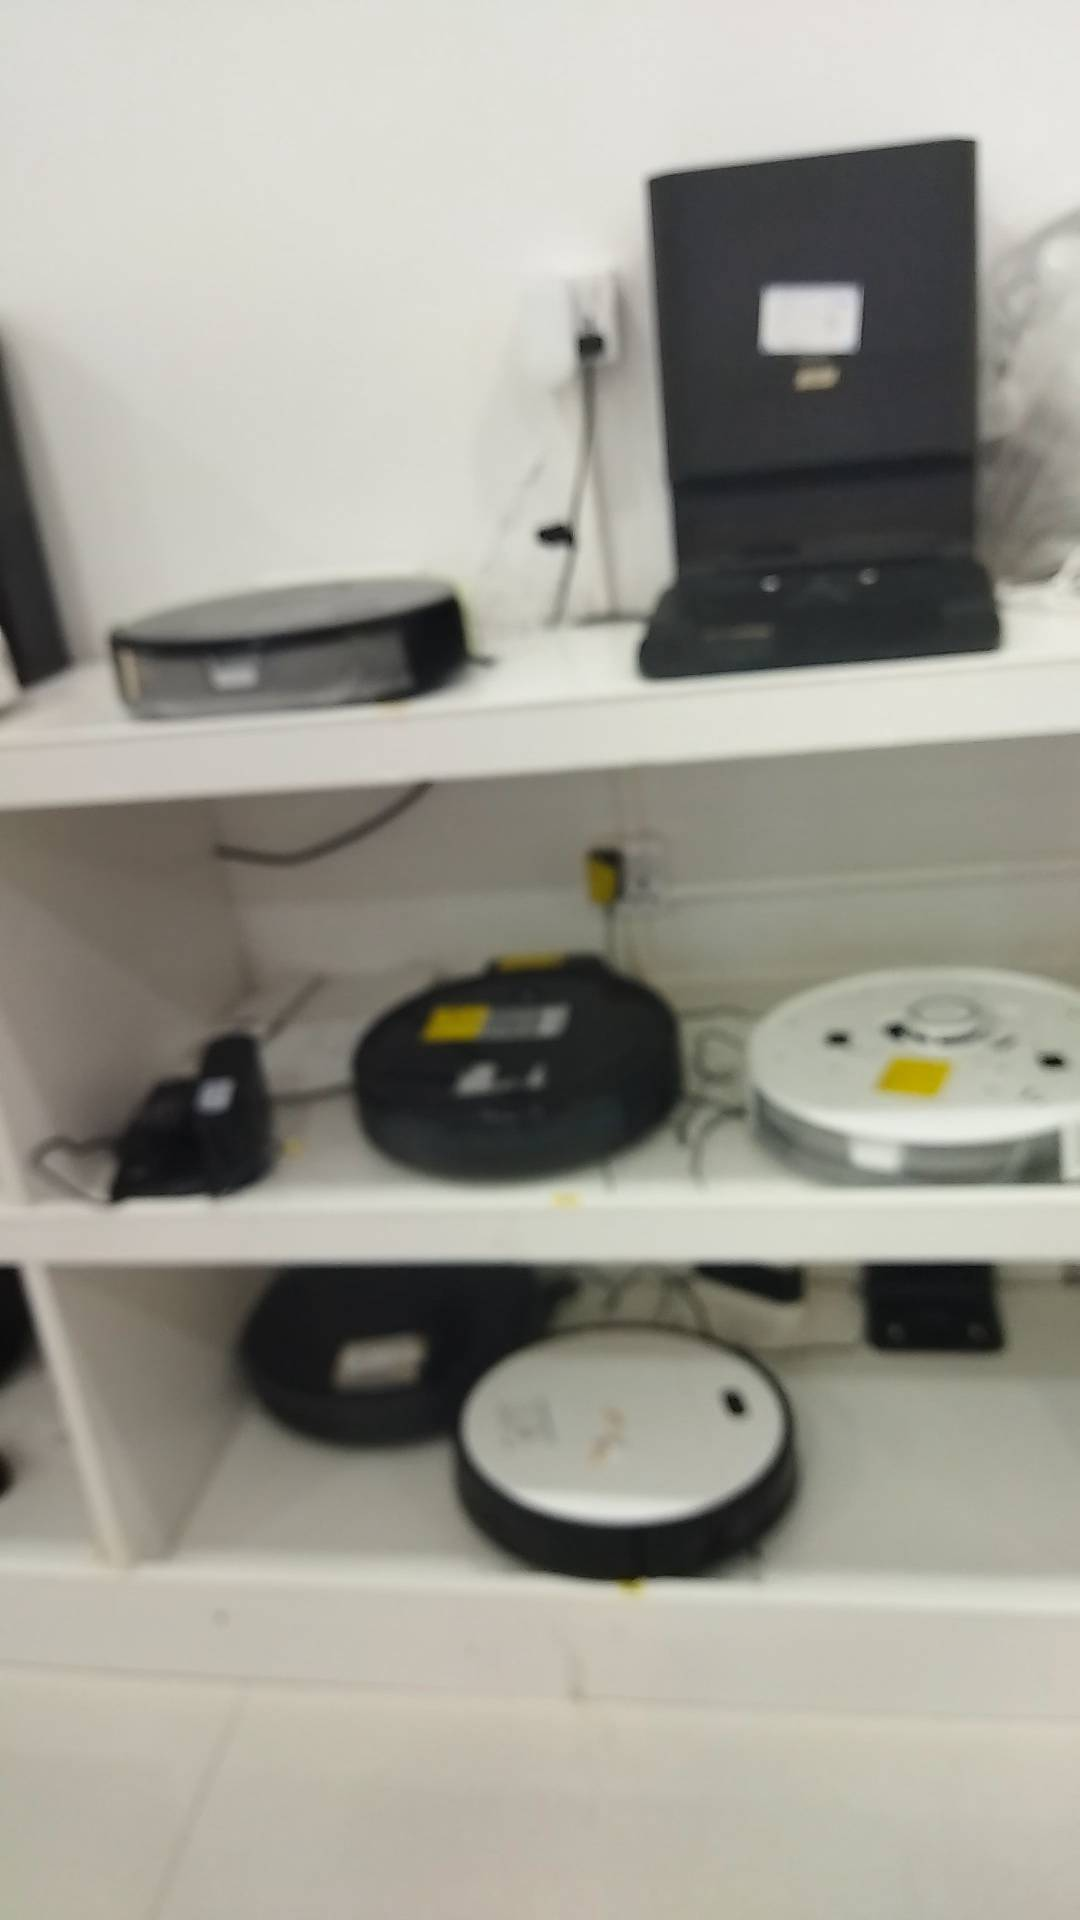dust collecting barrel: (640, 138, 1005, 680)
recharge seat: (103, 1026, 278, 1197), (669, 1251, 807, 1374), (860, 1255, 1011, 1352)
